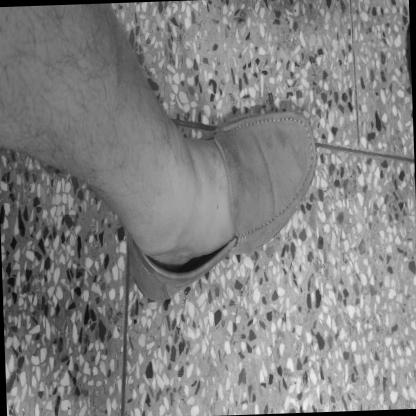ankle: (190, 243, 193, 249)
heel: (136, 269, 141, 277)
pinky: (296, 116, 298, 124)
right_foot: (126, 110, 322, 304)
toe: (308, 175, 310, 183)
